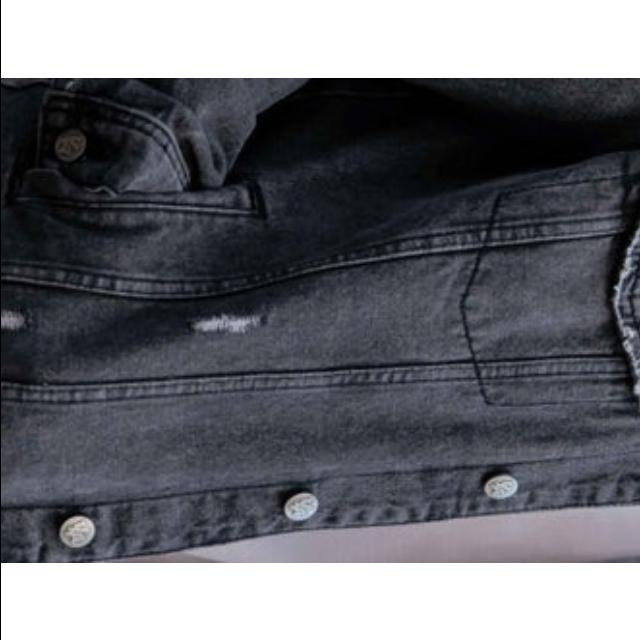denim: (0, 77, 640, 519)
